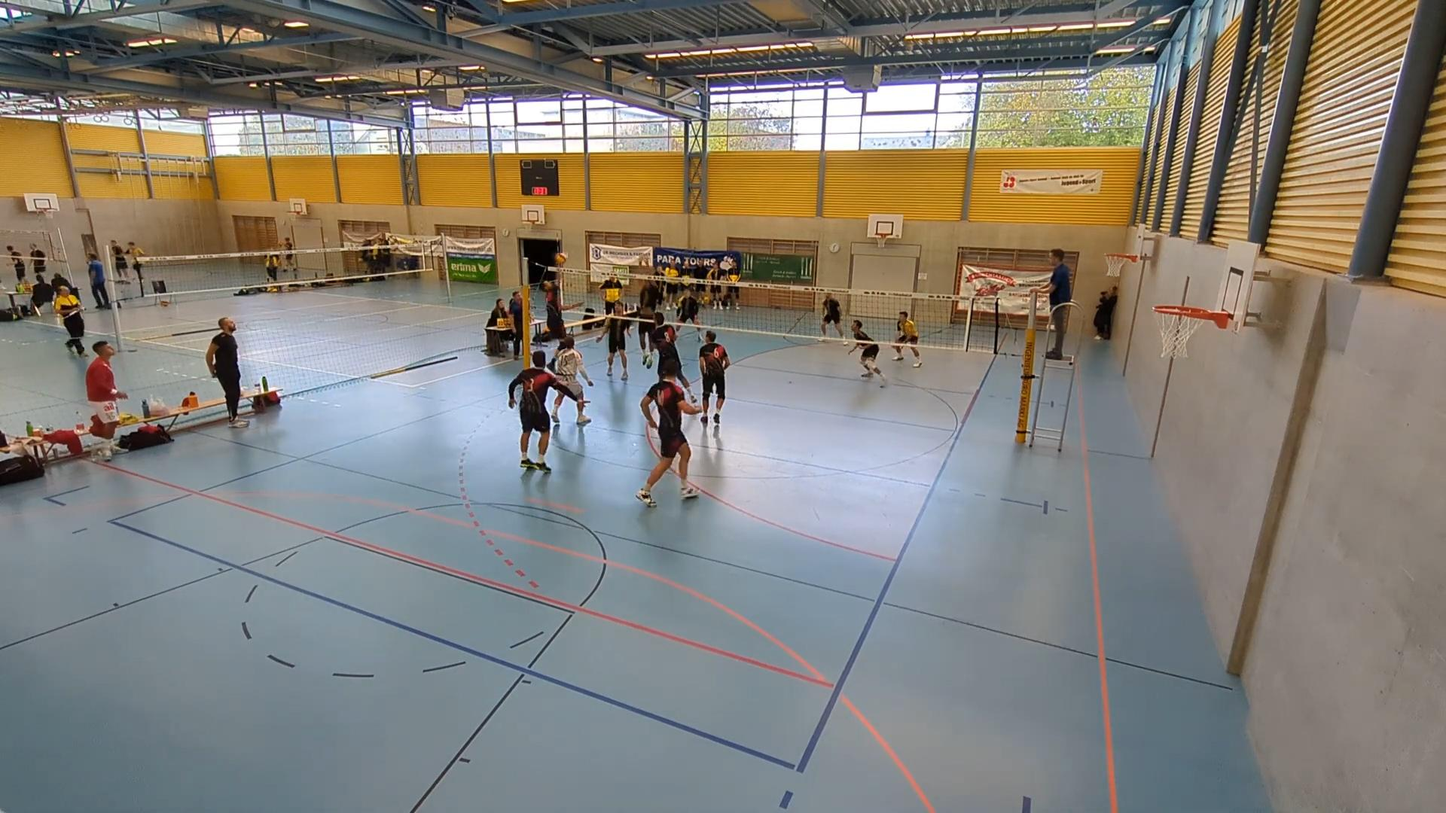attacco: (538, 259, 584, 342)
muro: (631, 247, 666, 374)
